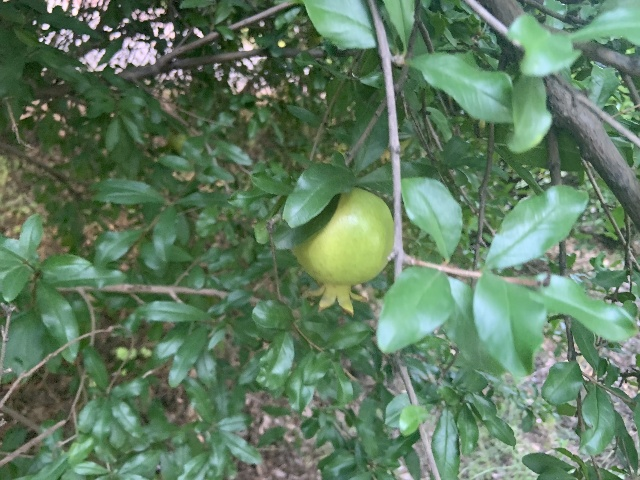mid-growth: (292, 187, 394, 314)
